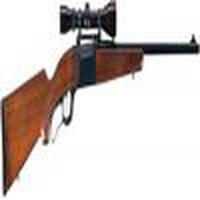gun: (2, 3, 199, 179)
